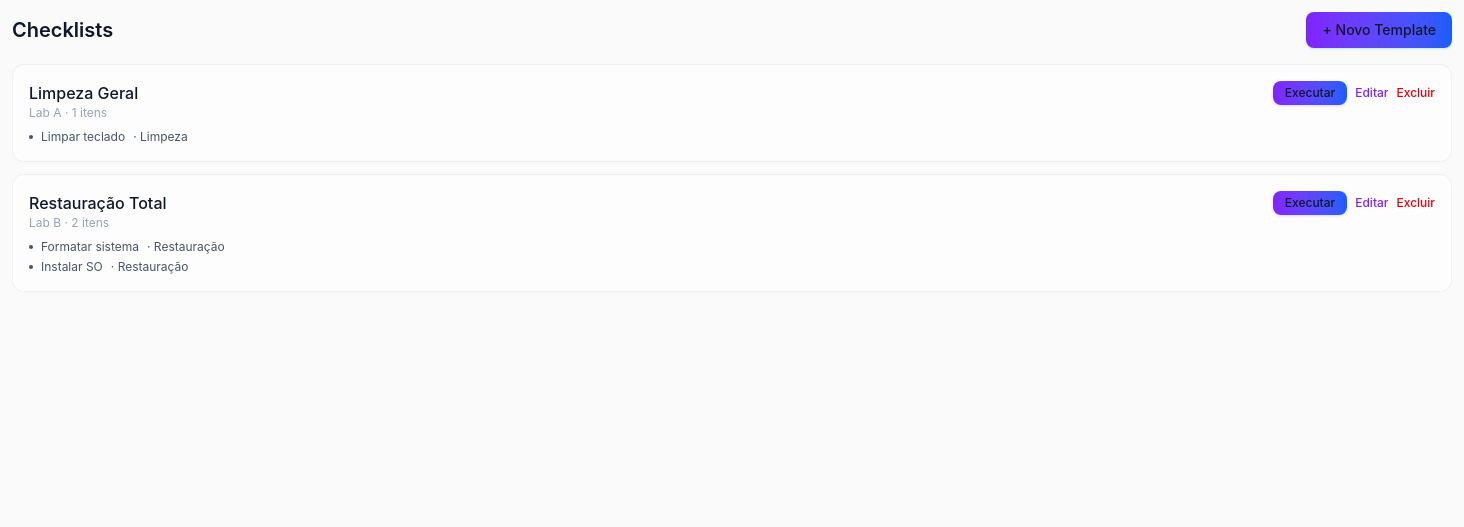
it: ChecklistTemplates › abre formulário ao clicar "+ Novo Template"
Click the button "+ Novo Template": (1379, 30) x1=1306 y1=12 x2=1452 y2=48
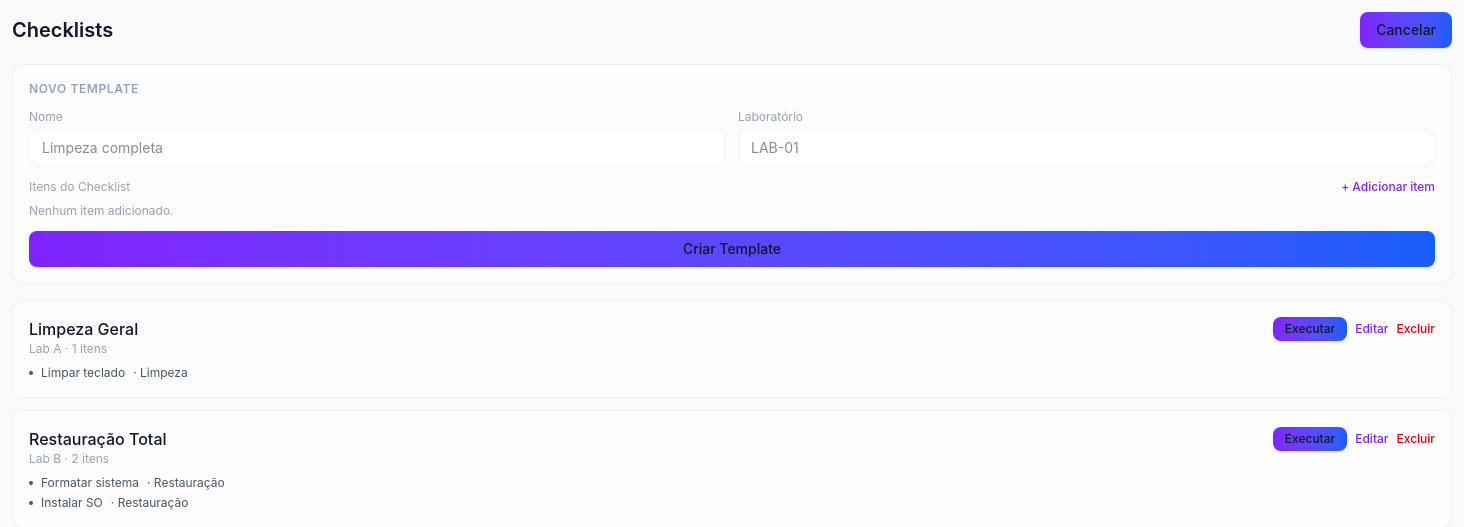
Result: the button "Criar Template" is shown at x1=29 y1=231 x2=1435 y2=267
